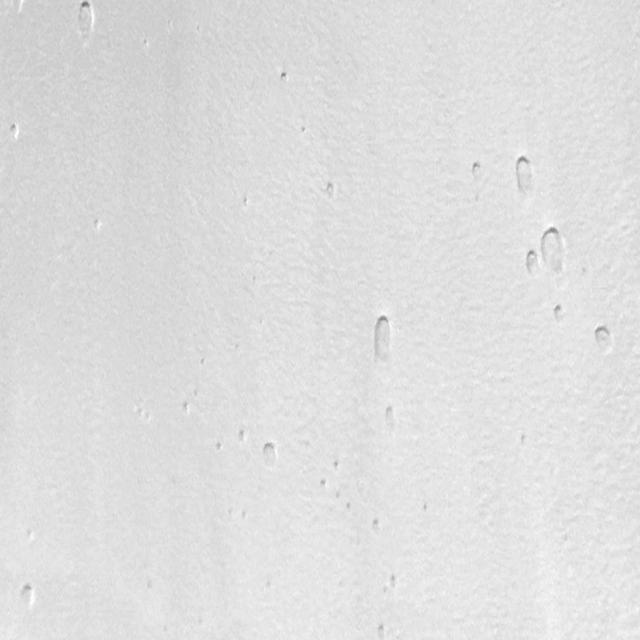pin holes: (537, 226, 570, 282), (372, 310, 401, 364), (513, 151, 539, 195), (71, 0, 95, 38), (593, 322, 616, 351), (259, 440, 280, 470), (19, 583, 39, 610), (524, 250, 542, 279), (320, 180, 340, 204), (467, 160, 486, 185), (382, 403, 401, 427), (551, 301, 568, 325), (386, 571, 402, 594), (7, 122, 23, 143), (135, 405, 151, 424), (277, 68, 292, 86), (370, 517, 384, 536), (517, 431, 531, 450), (235, 428, 249, 446), (298, 122, 311, 139), (376, 622, 388, 640), (91, 218, 104, 234), (316, 478, 329, 493), (240, 194, 252, 210), (182, 401, 194, 417), (215, 440, 228, 454), (419, 501, 431, 516), (332, 459, 344, 473), (140, 38, 150, 54), (344, 501, 354, 516), (240, 507, 250, 522), (198, 358, 208, 372), (336, 488, 342, 500)
